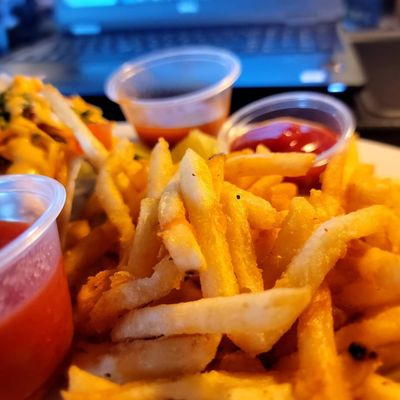pizza: (0, 175, 75, 400)
sushi: (215, 90, 358, 202), (105, 48, 242, 145)
